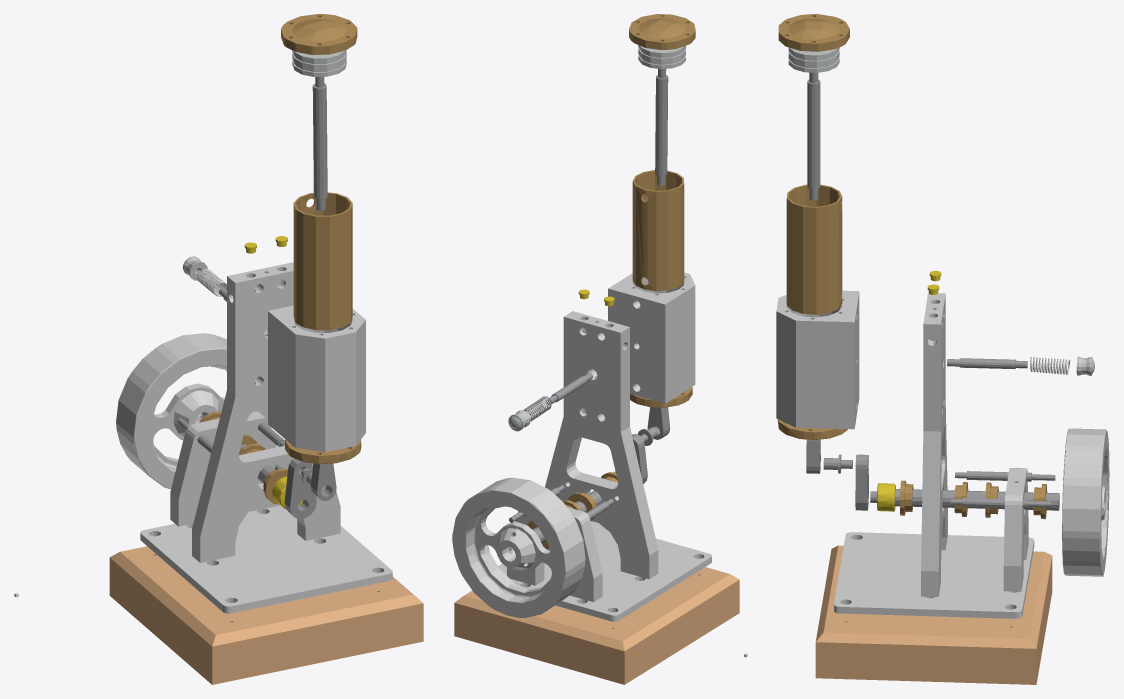
3 views of the same model, side by side, from view 1: azimuth 30°, elevation 25°; view 2: azimuth 150°, elevation 25°; view 3: azimuth 270°, elevation 25° (orthographic). The views are drawn at different scales.
Visible parts, largest first — view 1: Asm8; view 2: Asm8; view 3: Asm8.
Boxes of the visible parts, left/top/right/bottom form: Asm8: left=109, top=14, right=423, bottom=684; Asm8: left=452, top=14, right=739, bottom=684; Asm8: left=776, top=14, right=1109, bottom=684.
Bounding box in the file's own units: 236 × 452 × 226.
